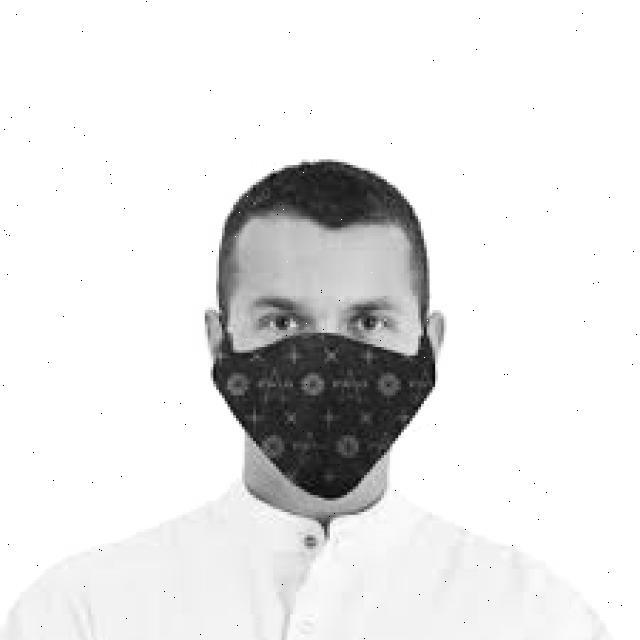fake: (203, 323, 441, 504)
real: (226, 215, 420, 504)
